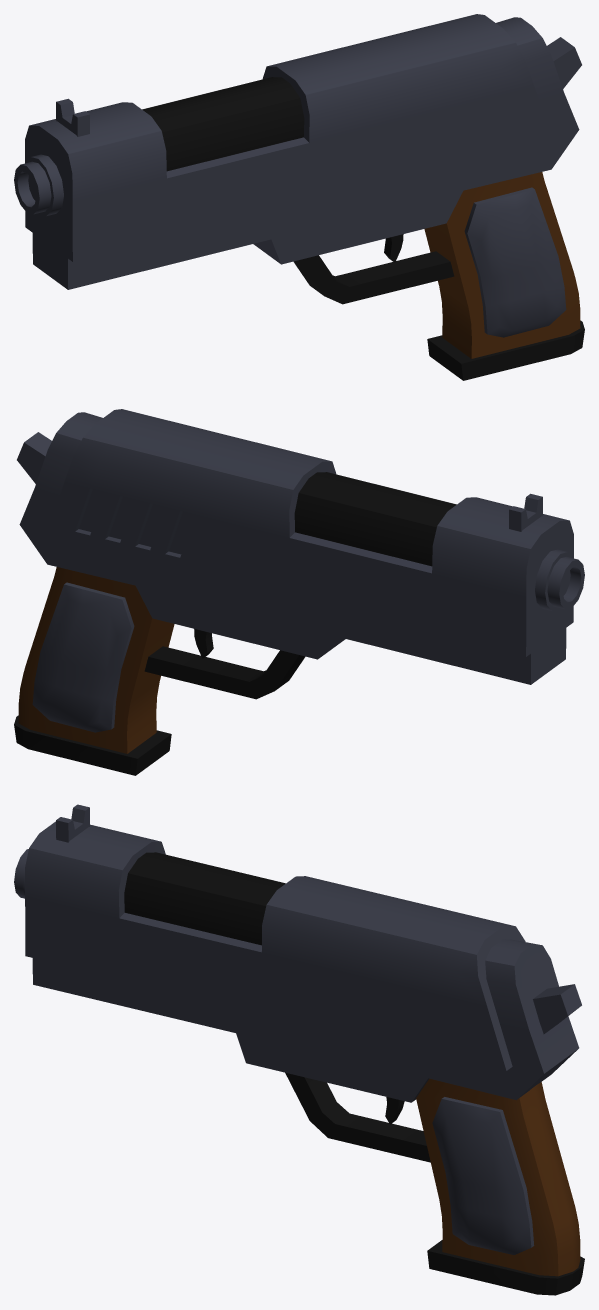
The model's file is Pistol.obj.
3 views of the same model, one above another, from view 1: azimuth 30°, elevation 25°; view 2: azimuth 150°, elevation 25°; view 3: azimuth 330°, elevation 25° (orthographic).
Parts seen in each view (by area): view 1: Pistol_Cube.002; view 2: Pistol_Cube.002; view 3: Pistol_Cube.002.
Boxes of the visible parts, <box> form: Pistol_Cube.002: <box>14,14,584,380</box>; Pistol_Cube.002: <box>14,409,584,775</box>; Pistol_Cube.002: <box>14,804,584,1295</box>.
Size of the model in its own units: 0.7909 by 0.4822 by 0.1181.
